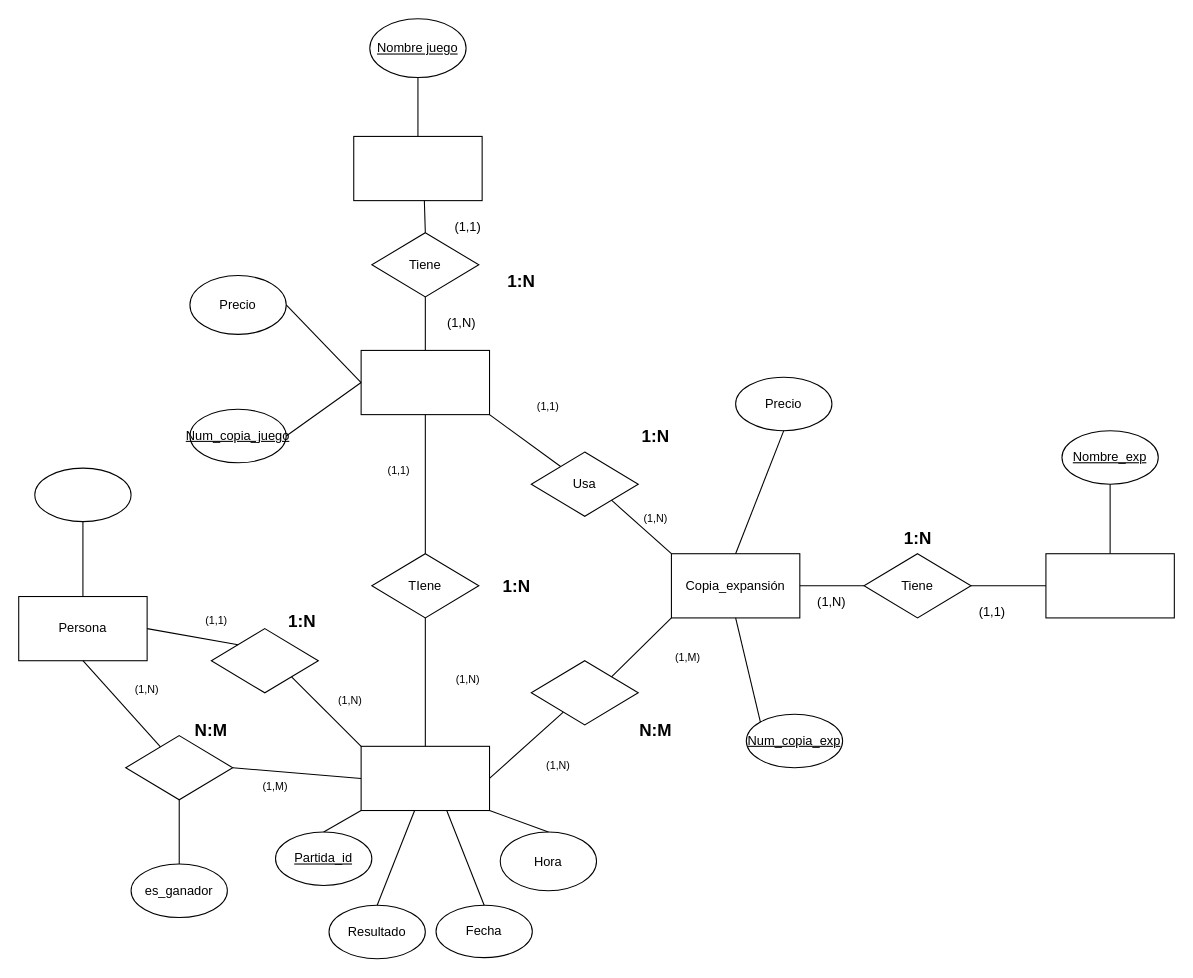
Some shapes in this 1193 by 978 pixel diagram are drawn without their labels. The shapes that lost their labels are listed below. From the top down, each one's centre as x and y in pixels, then its label:
At point (417, 168): "Juego_de_mesa".
At point (425, 382): "Copia_juego".
At point (82, 494): "Nombre:pers".
At point (1109, 585): "Expansión".
At point (264, 660): "Supervisa".
At point (584, 692): "Utiliza".
At point (179, 767): "Participa".
At point (425, 778): "Partida".
